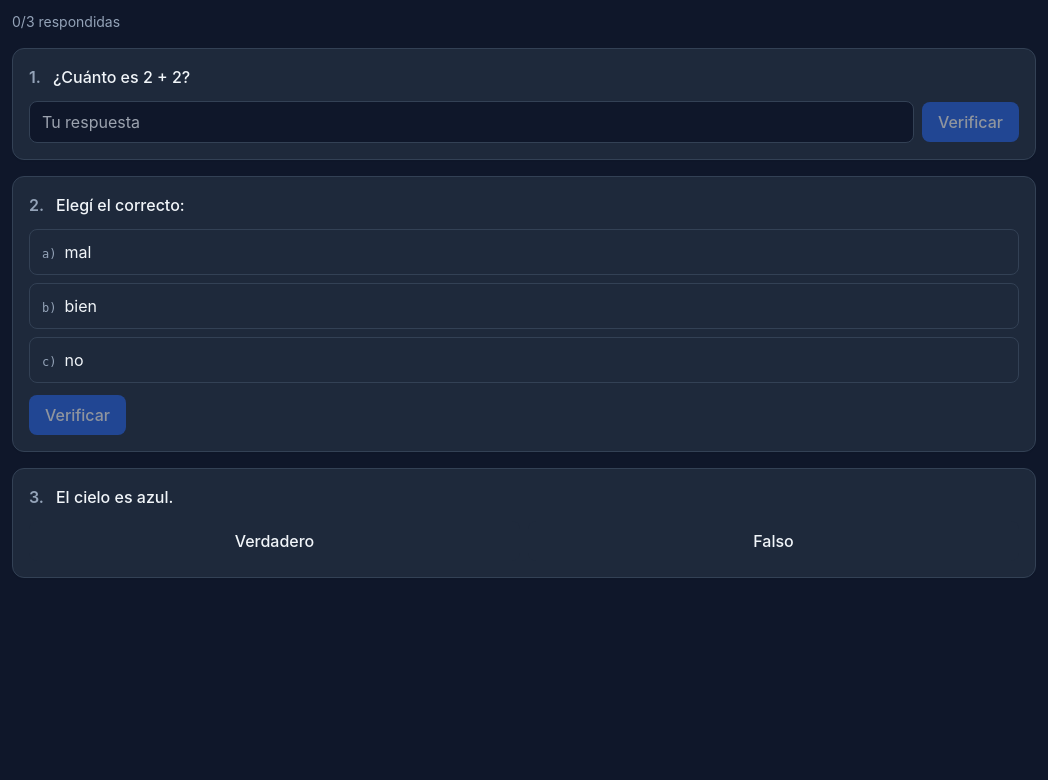
Test: QuizRunner › marca incorrecta una respuesta numérica equivocada y muestra la correcta
The image size is (1048, 780).
Type "5" into the field named "Respuesta a la pregunta 1" at (472, 122), box [29,101,914,143]
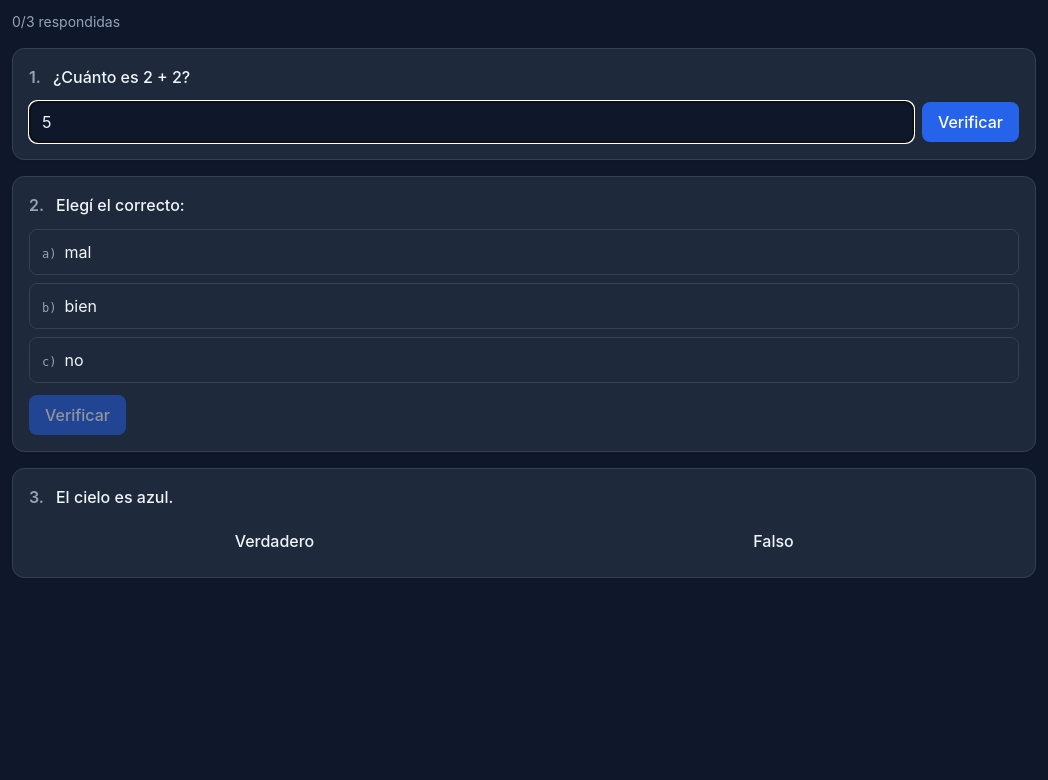
Click the 1st button "Verificar" at (970, 122), box [922,102,1019,142]
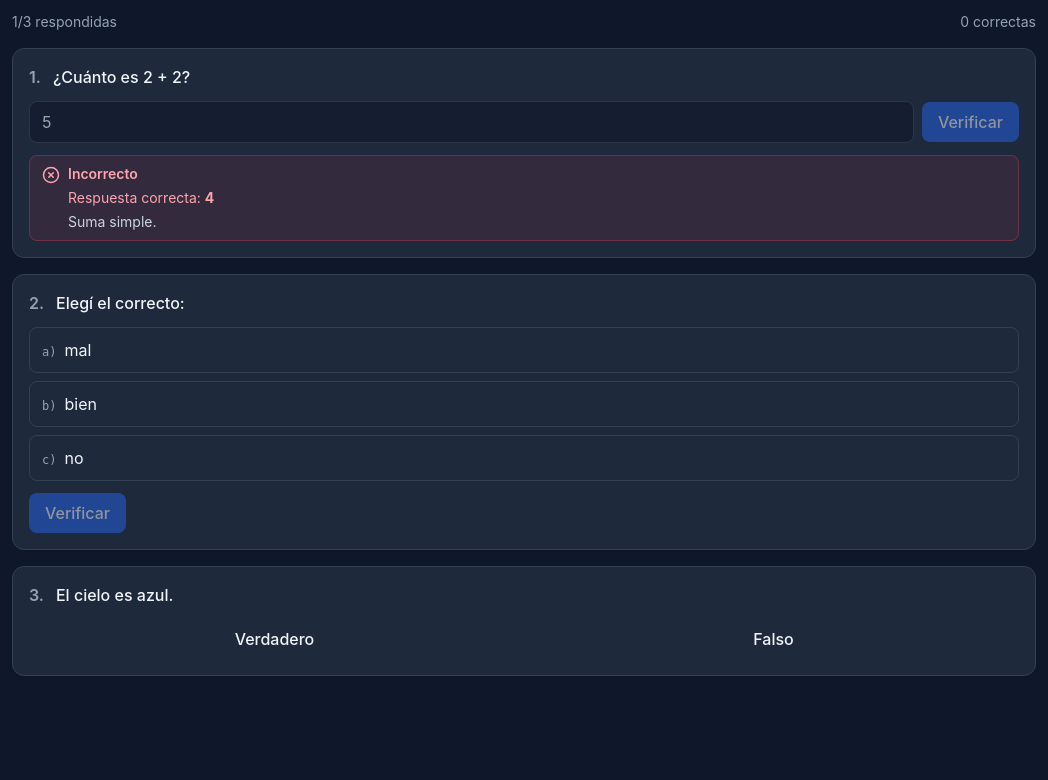
Expected: the text "Incorrecto" is shown, [68,165,138,182]
Expected: the text "Respuesta correcta: 4" is shown, [68,188,214,208]
